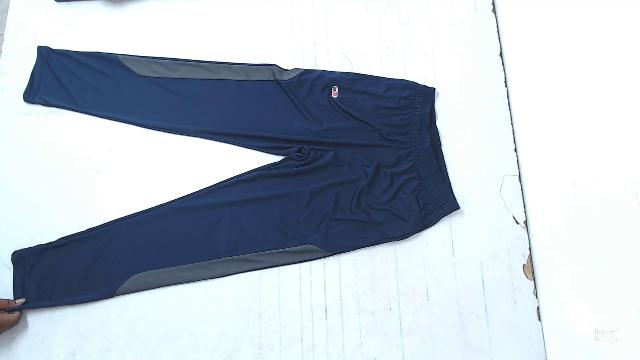new-garment: (12, 46, 459, 309)
